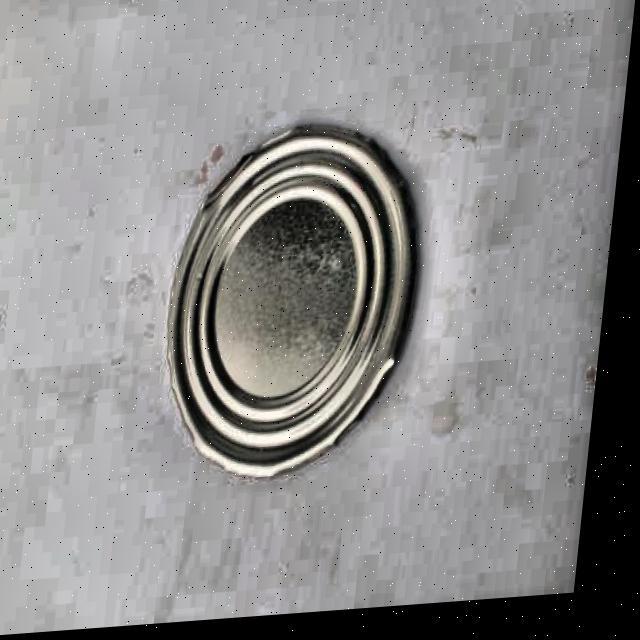metal: (151, 112, 438, 487)
